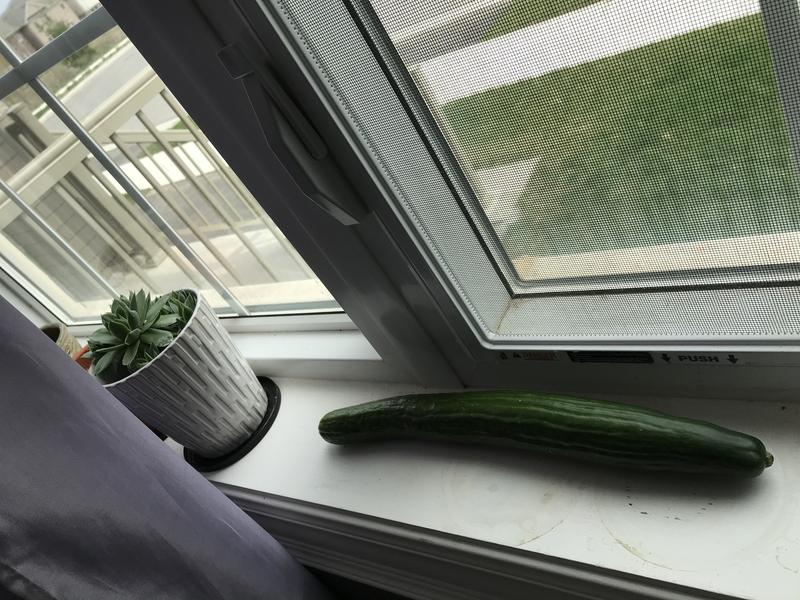cucumber: (303, 379, 784, 511)
